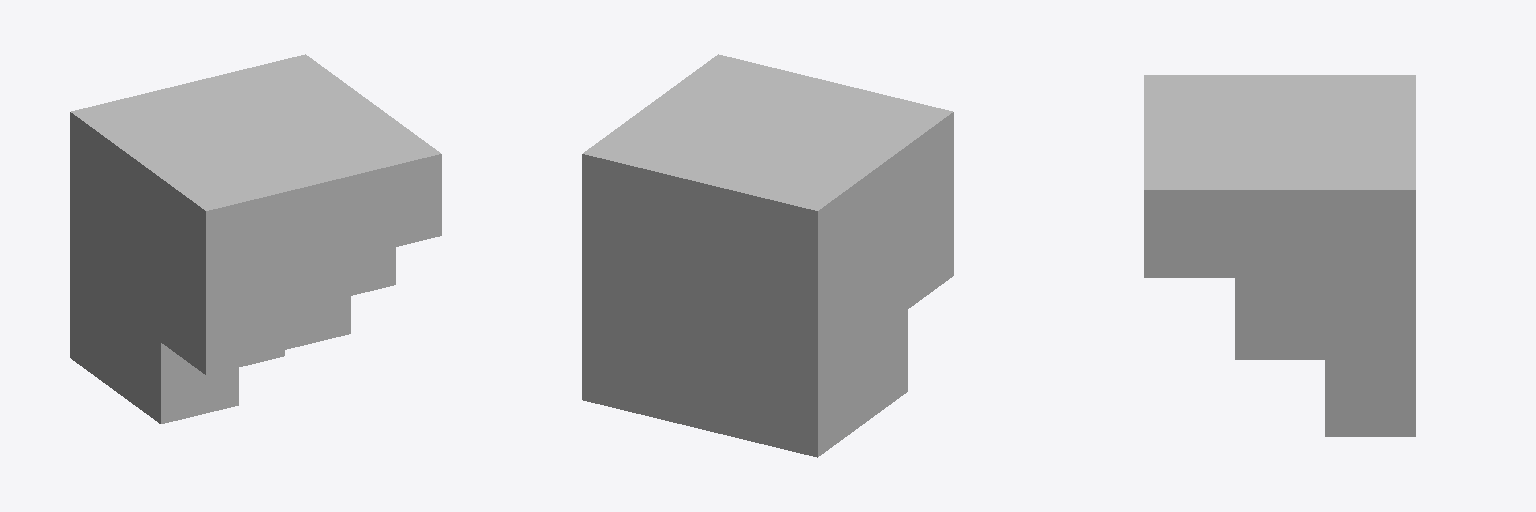
The model's file is stair1_1.obj.
3 renders of one model, left to right at view 1: azimuth 30°, elevation 25°; view 2: azimuth 150°, elevation 25°; view 3: azimuth 270°, elevation 25°, orthographic.
Parts seen in each view (by area): view 1: stair1; view 2: stair1; view 3: stair1.
Boxes of the visible parts, box(x1,y1,x2,y2) form: stair1: box(70, 54, 441, 423); stair1: box(582, 54, 953, 457); stair1: box(1144, 75, 1415, 436).
Size of the model in its own units: 3 by 3 by 3.